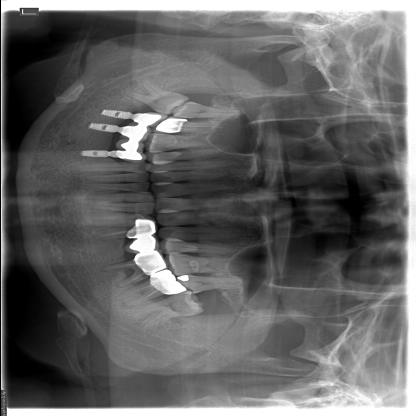Bicon: (77, 147, 120, 162), (84, 122, 119, 136), (96, 108, 136, 120)
